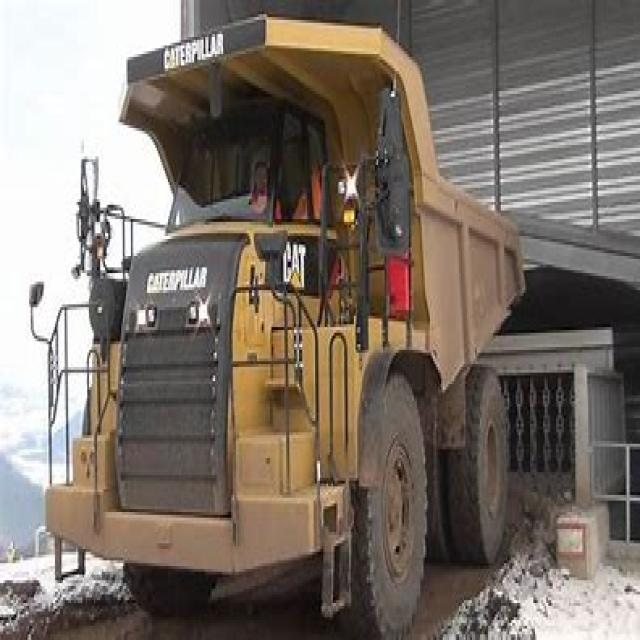dump_truck: (28, 14, 544, 614)
